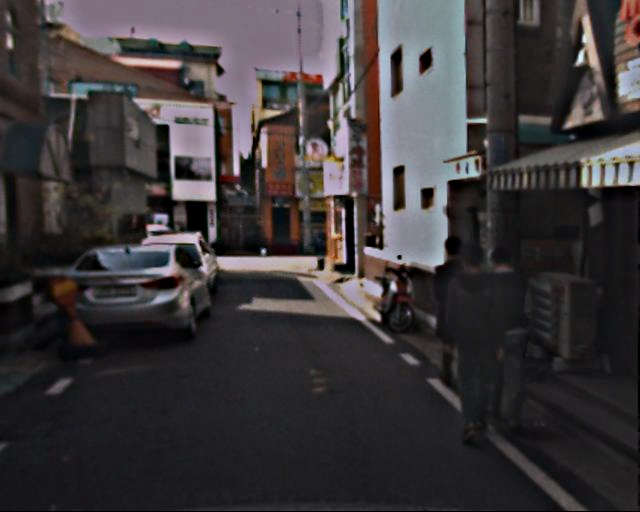person: (435, 248, 515, 444), (466, 246, 542, 431), (423, 236, 485, 386)
